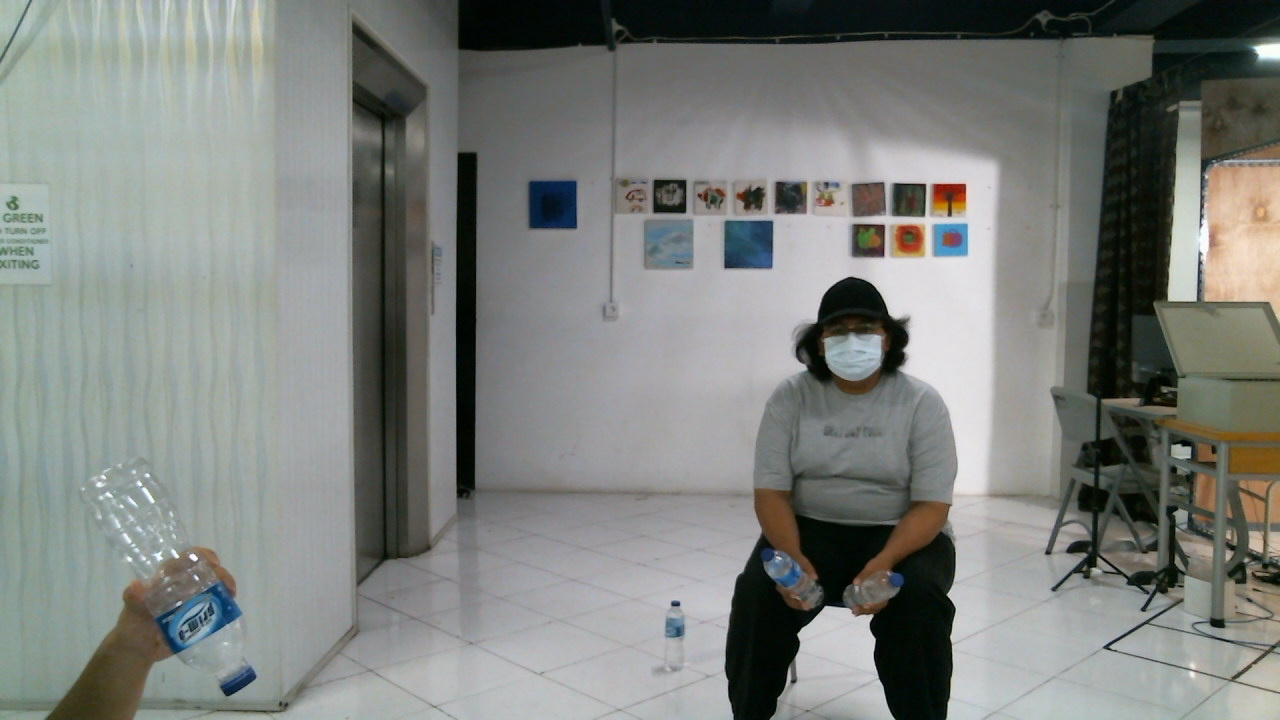Bottle: (80, 451, 259, 696), (758, 550, 821, 610)
